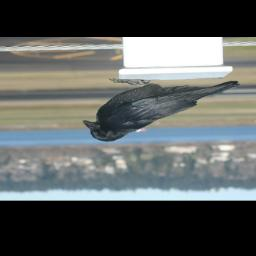Crow: (82, 79, 241, 142)
